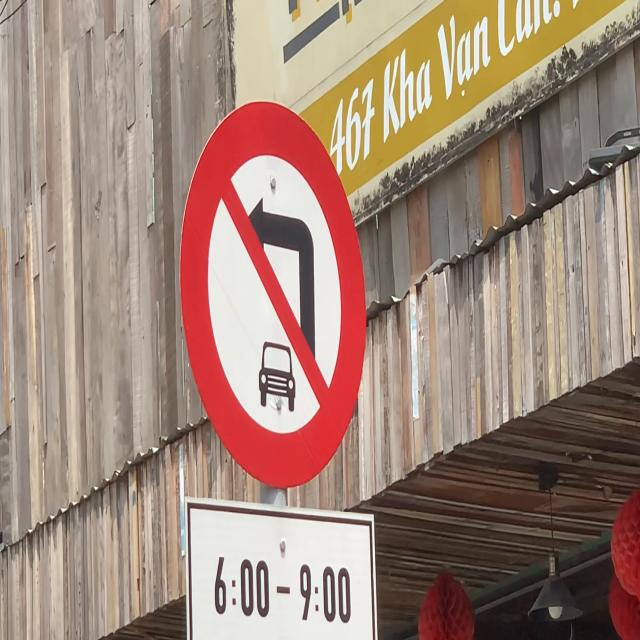Cam re trai: (181, 96, 368, 488)
